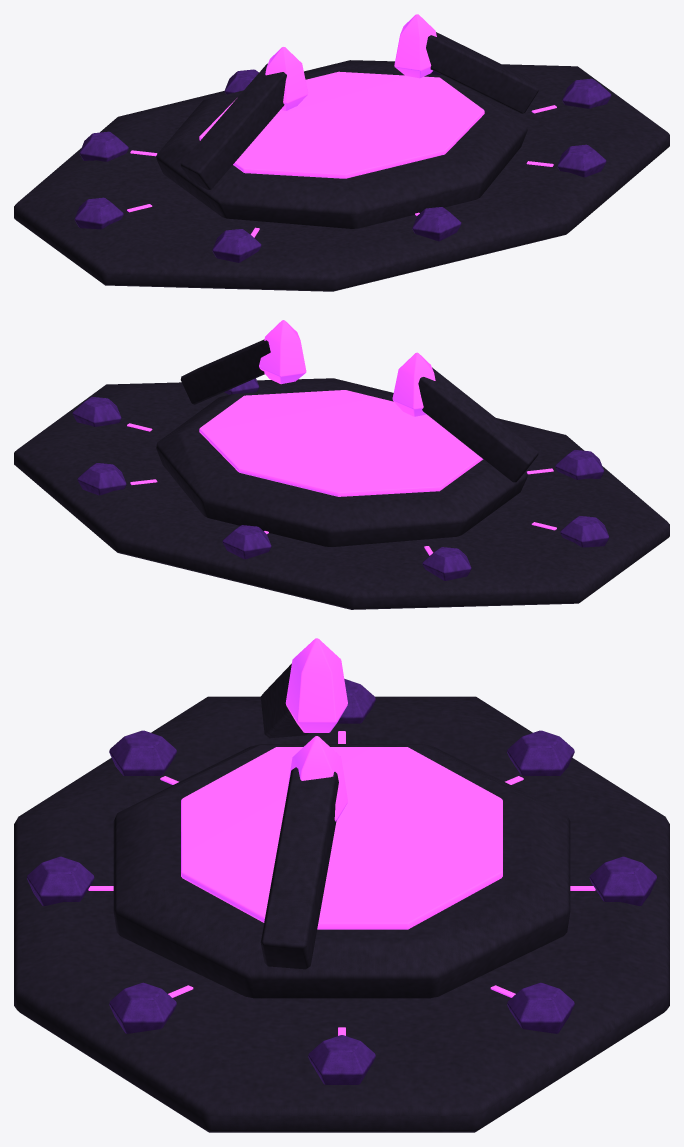
The model's file is conclave_bassin_de_regeneration.gltf.
The picture shows the model from 3 angles, top to bottom: view 1: azimuth 30°, elevation 25°; view 2: azimuth 150°, elevation 25°; view 3: azimuth 270°, elevation 25°; orthographic projection. The views are drawn at different scales.
Parts seen in each view (by area): view 1: Root.010_Geometry, Arm_-1_Geometry, Arm_1_Geometry; view 2: Root.010_Geometry, Arm_-1_Geometry, Arm_1_Geometry; view 3: Root.010_Geometry, Arm_1_Geometry, Arm_-1_Geometry.
Part boxes in pixels (bbox=[...]): Root.010_Geometry: bbox=[14, 60, 669, 291]; Arm_-1_Geometry: bbox=[180, 47, 308, 189]; Arm_1_Geometry: bbox=[394, 14, 538, 113]; Root.010_Geometry: bbox=[14, 378, 669, 609]; Arm_-1_Geometry: bbox=[392, 352, 538, 482]; Arm_1_Geometry: bbox=[180, 320, 306, 404]; Root.010_Geometry: bbox=[14, 679, 669, 1132]; Arm_1_Geometry: bbox=[260, 736, 347, 969]; Arm_-1_Geometry: bbox=[260, 638, 347, 738].
Size of the model in its own units: 5.88 by 1.58 by 3.92.
3 materials, 2 textured.
